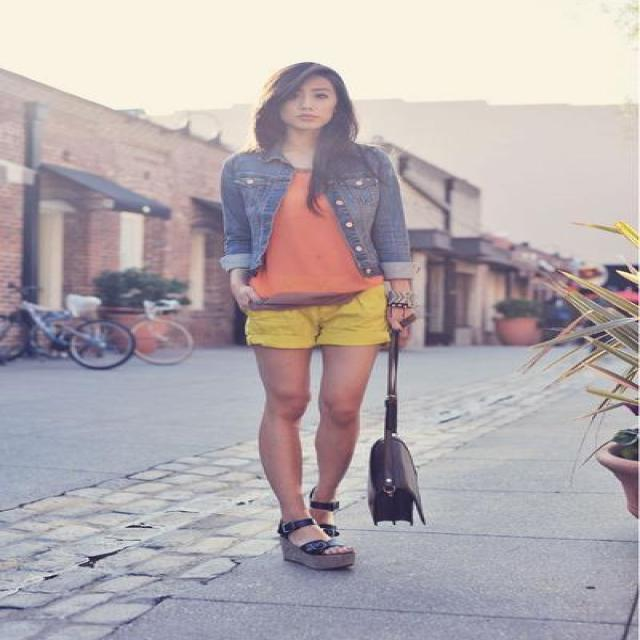bag: (368, 422, 424, 524)
jacket: (204, 144, 426, 285)
shirt: (259, 180, 363, 294)
shoe: (280, 540, 354, 577)
shorts: (245, 277, 389, 348)
